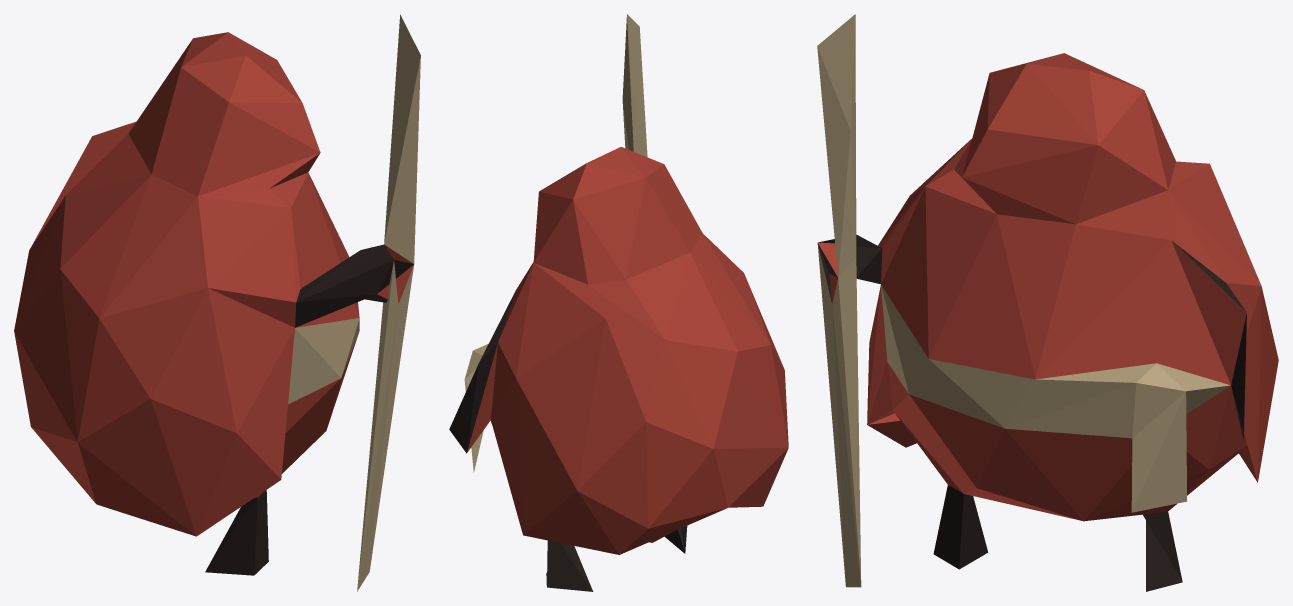
3 views of the same model, side by side, from view 1: azimuth 30°, elevation 25°; view 2: azimuth 150°, elevation 25°; view 3: azimuth 270°, elevation 25° (orthographic). The views are drawn at different scales.
Visible parts, largest first — view 1: lion-200; view 2: lion-200; view 3: lion-200.
Part boxes in pixels (x1,y1,x2,y2): lion-200: (14, 14, 420, 591); lion-200: (449, 14, 788, 591); lion-200: (817, 14, 1278, 591).
Bounding box in the file's own units: 0.5632 × 0.9866 × 0.6796.
